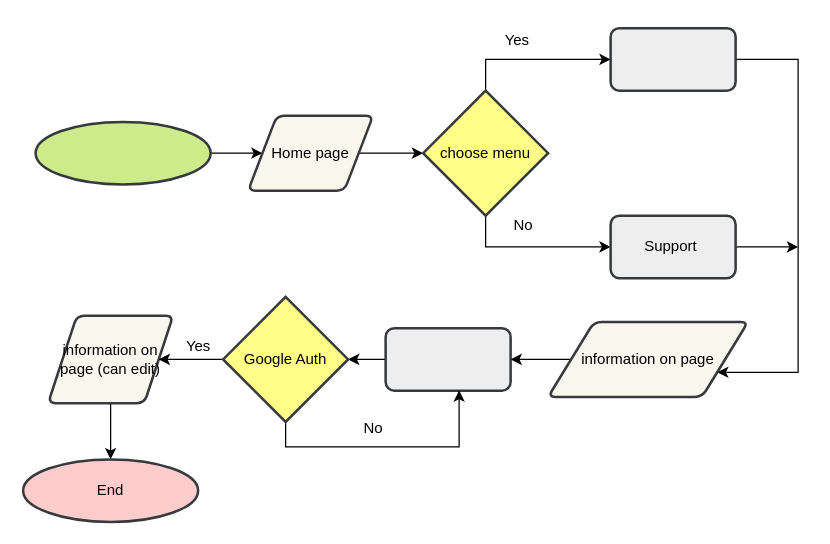
This 830x544 diagram has some shape labels left out. The shapes that lost their labels are listed below. From the top down, each one's box as (x1, y1, x2, y2) in pixels, then its label:
(609, 26, 736, 91): Type Place
(34, 120, 211, 185): Start
(384, 326, 511, 391): Login
